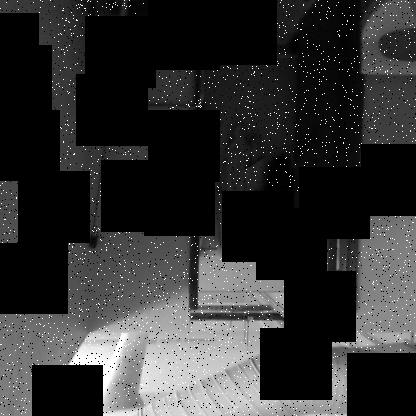Porte: (188, 0, 366, 314)
